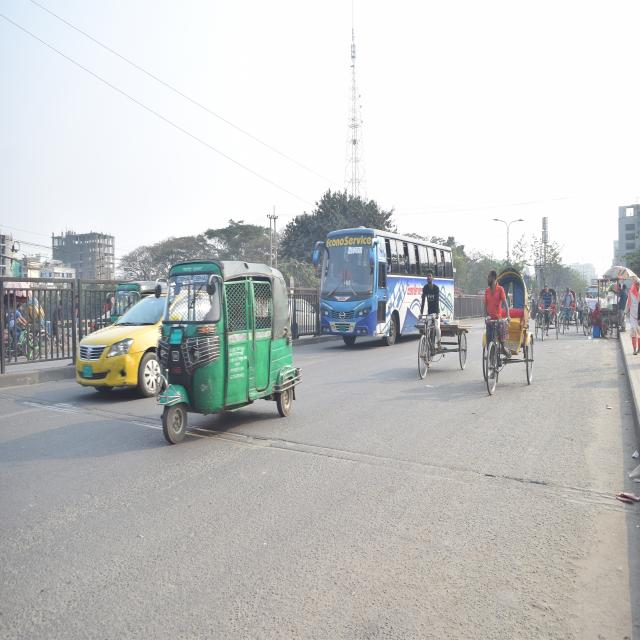bus: (306, 221, 454, 354)
car: (72, 286, 176, 418)
